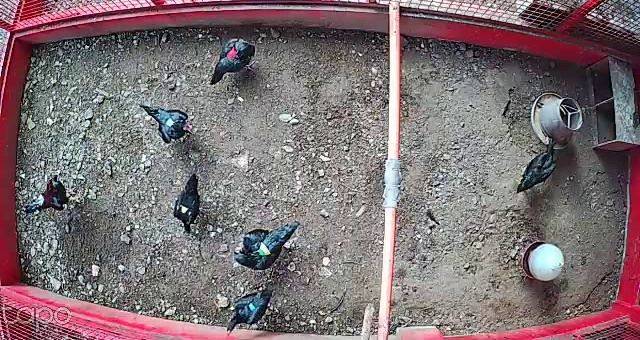Chicken: (233, 216, 298, 270), (134, 96, 201, 143), (221, 286, 272, 339), (515, 142, 562, 194), (211, 36, 257, 85), (170, 177, 205, 233)
Rooster: (24, 169, 84, 215)
Saddle_Color_Blue: (247, 301, 256, 310)
Saddle_Color_Red: (226, 47, 241, 62)
Saddle_Color_White: (164, 117, 176, 128)
Saddle_Color_Yellow: (175, 202, 193, 217)
Saddle_Color_YellowGreen: (252, 238, 269, 261)
